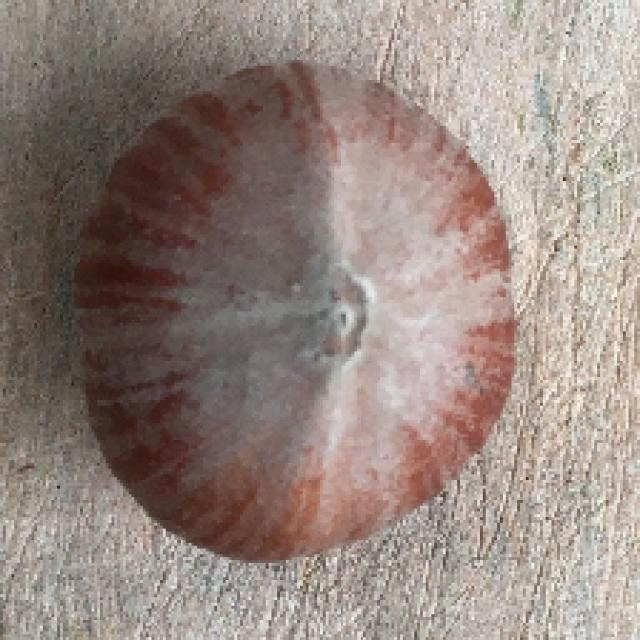qualityHazelnut: (66, 54, 522, 564)
